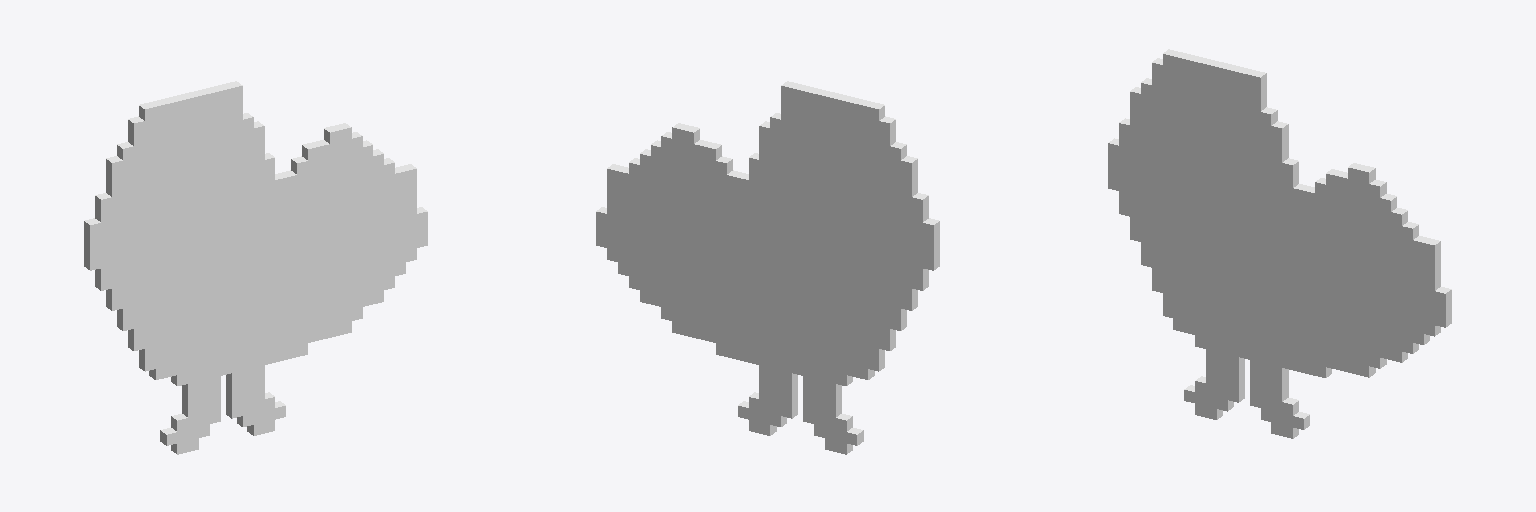
File: birdmona1.obj
The picture shows the model from 3 angles: view 1: azimuth 30°, elevation 25°; view 2: azimuth 150°, elevation 25°; view 3: azimuth 330°, elevation 25°; orthographic projection.
Parts seen in each view (by area): view 1: object 1; view 2: object 1; view 3: object 1.
Part boxes in pixels (bbox=[...]): object 1: bbox=[84, 81, 427, 454]; object 1: bbox=[596, 81, 939, 454]; object 1: bbox=[1108, 49, 1451, 438].
Size of the model in its own units: 3.1 by 3.1 by 0.1.